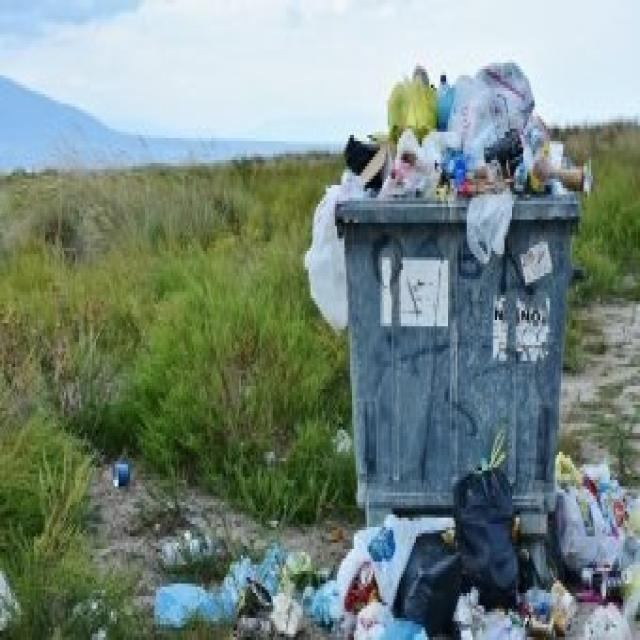Trashbag: (448, 473, 520, 603), (391, 537, 462, 634)
